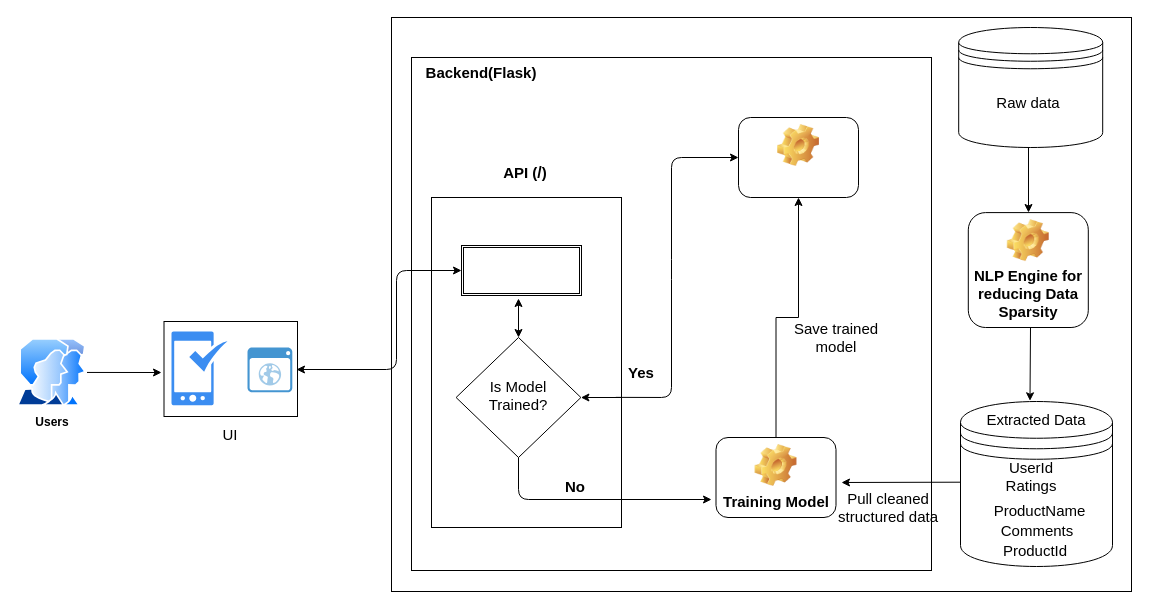
This 1149x609 diagram has some shape labels left out. The shapes that lost their labels are listed below. From the top down, each one's centre as x and y in pixels, then its label:
(798,157): Trained Model
(521,270): UserId and ProductName
